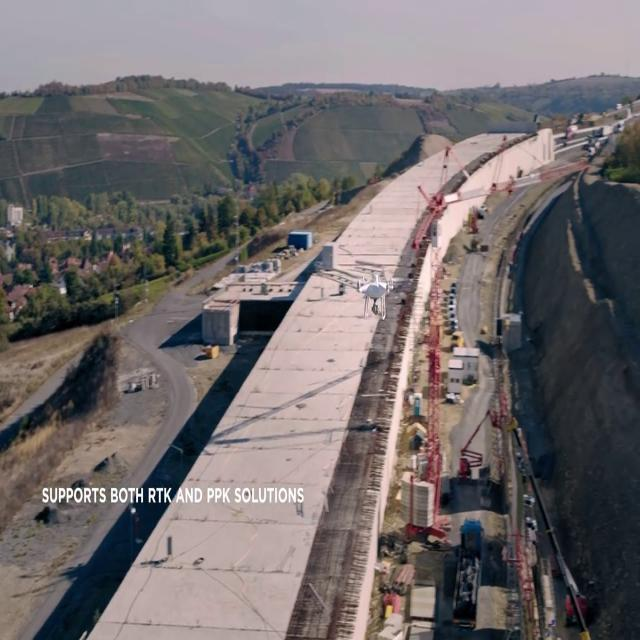drone: (354, 270, 404, 319)
